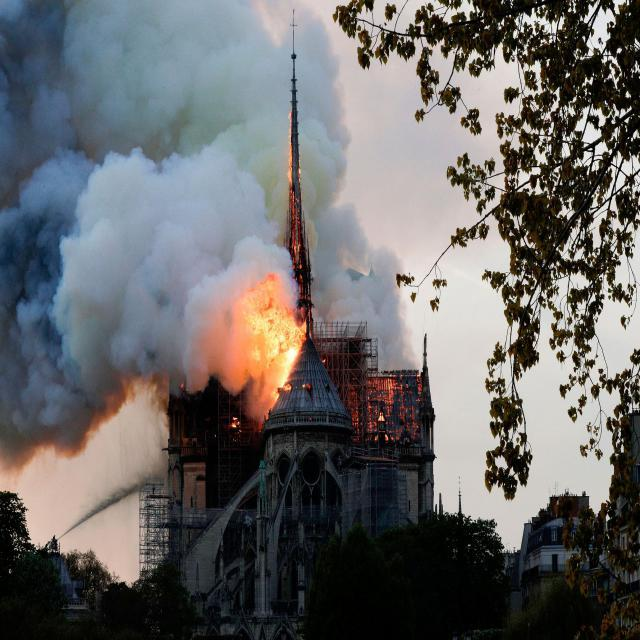Fire: (225, 258, 306, 396), (348, 350, 425, 458), (276, 86, 309, 258)
